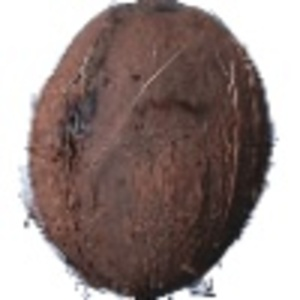coco: (20, 1, 278, 300)
